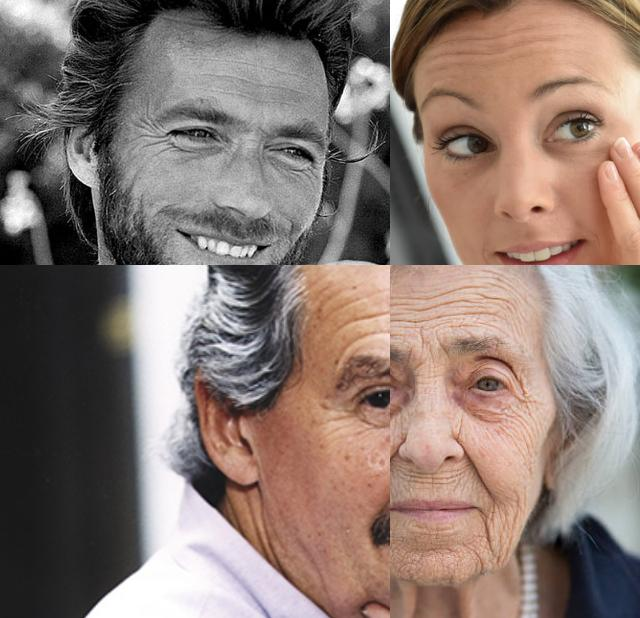bunny_line: (450, 416, 466, 442)
chin: (458, 546, 486, 574), (399, 548, 419, 578), (428, 542, 454, 562)
crows_feet: (320, 398, 358, 431), (512, 386, 532, 418), (144, 126, 168, 150), (300, 159, 324, 182)
forehead: (329, 290, 385, 348), (460, 284, 508, 328), (504, 24, 556, 62), (440, 34, 492, 64), (206, 80, 254, 106), (411, 297, 449, 327), (259, 60, 299, 84), (216, 52, 256, 72), (266, 77, 300, 97)
frown_line: (413, 334, 449, 360)
gummy_smile: (462, 450, 488, 486), (380, 455, 390, 509), (390, 443, 402, 482)
masseter: (507, 490, 523, 534)
sad_smile: (477, 507, 497, 537), (588, 228, 604, 252), (477, 245, 495, 265)
smoker_lines: (412, 472, 454, 494)
